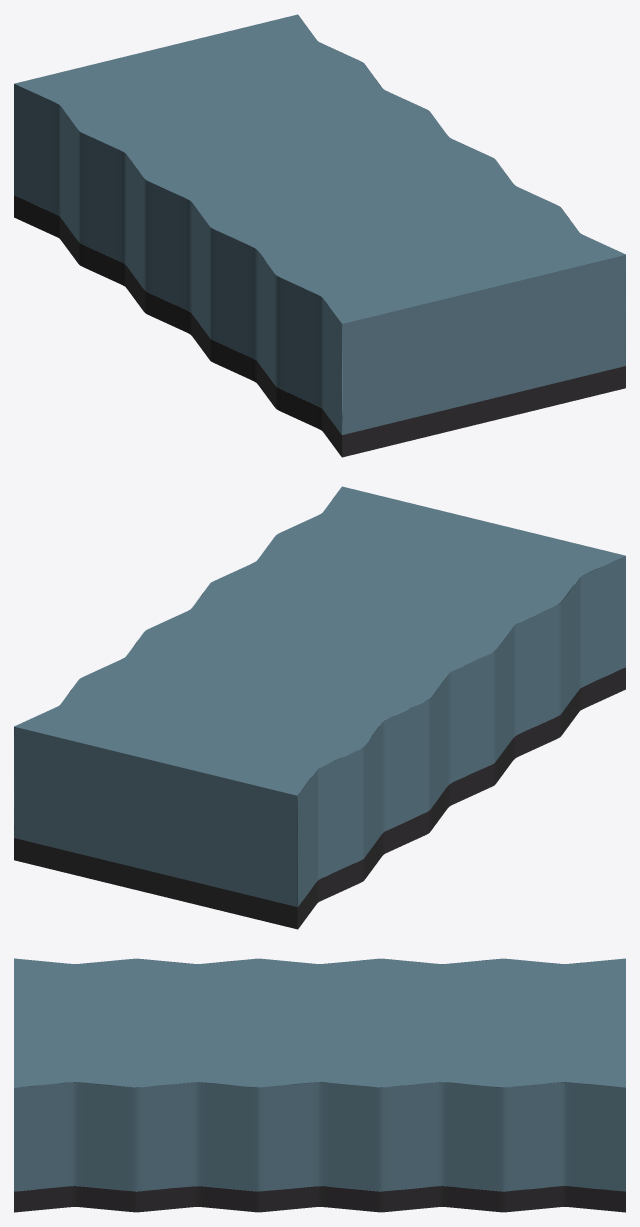
The model's file is gabka 1.fbx.
3 renders of one model, top to bottom at view 1: azimuth 30°, elevation 25°; view 2: azimuth 150°, elevation 25°; view 3: azimuth 270°, elevation 25°, orthographic. The views are drawn at different scales.
Visible parts, largest first — view 1: Cube, Cube.001; view 2: Cube, Cube.001; view 3: Cube, Cube.001.
Boxes of the visible parts, box(x1,y1,x2,y2) form: Cube: box(14, 14, 625, 434); Cube.001: box(14, 195, 625, 457); Cube: box(14, 486, 625, 906); Cube.001: box(14, 667, 625, 929); Cube: box(14, 958, 625, 1191); Cube.001: box(14, 1186, 625, 1212).
Size of the model in its own units: 40 by 18 by 80.
